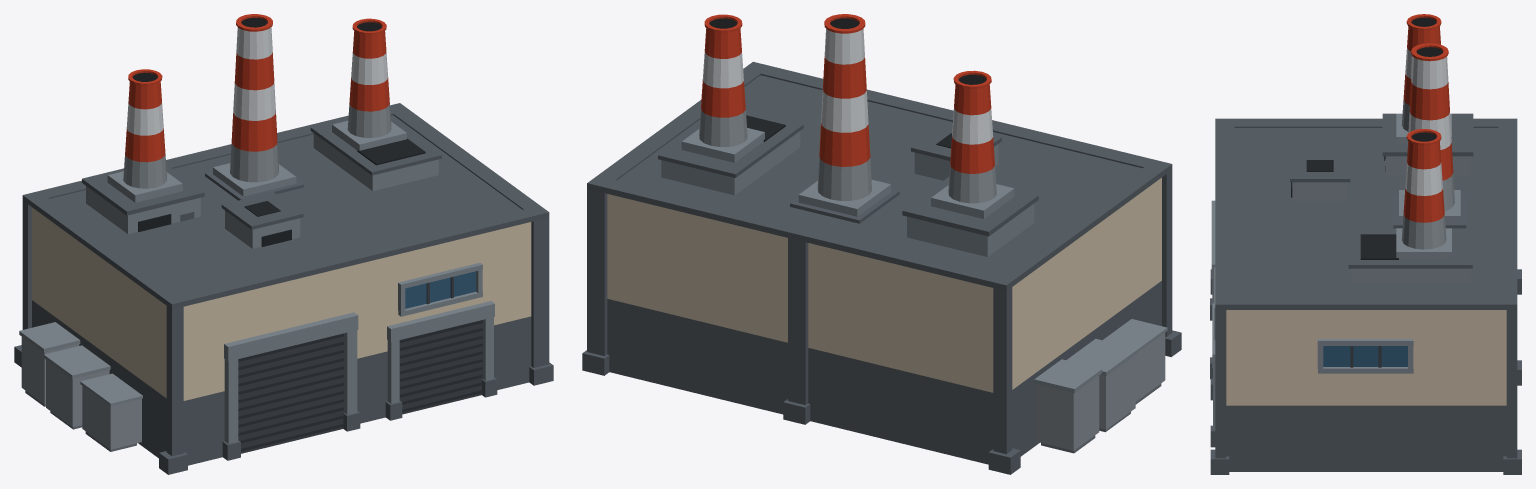
File: factory a.fbx
3 renders of one model, left to right at view 1: azimuth 30°, elevation 25°; view 2: azimuth 150°, elevation 25°; view 3: azimuth 270°, elevation 25°, orthographic. The views are drawn at different scales.
Visible parts, largest first — view 1: Factory_Building_A_Small; view 2: Factory_Building_A_Small; view 3: Factory_Building_A_Small.
Boxes of the visible parts, x1,y1,x2,y2 form: Factory_Building_A_Small: [14, 14, 553, 474]; Factory_Building_A_Small: [582, 14, 1181, 474]; Factory_Building_A_Small: [1210, 14, 1521, 474].
Bounding box in the file's own units: 1254 × 945 × 810.
